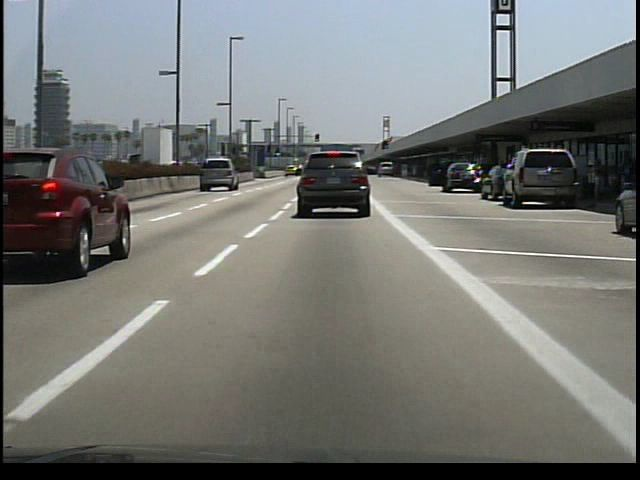person: (589, 154, 606, 203)
